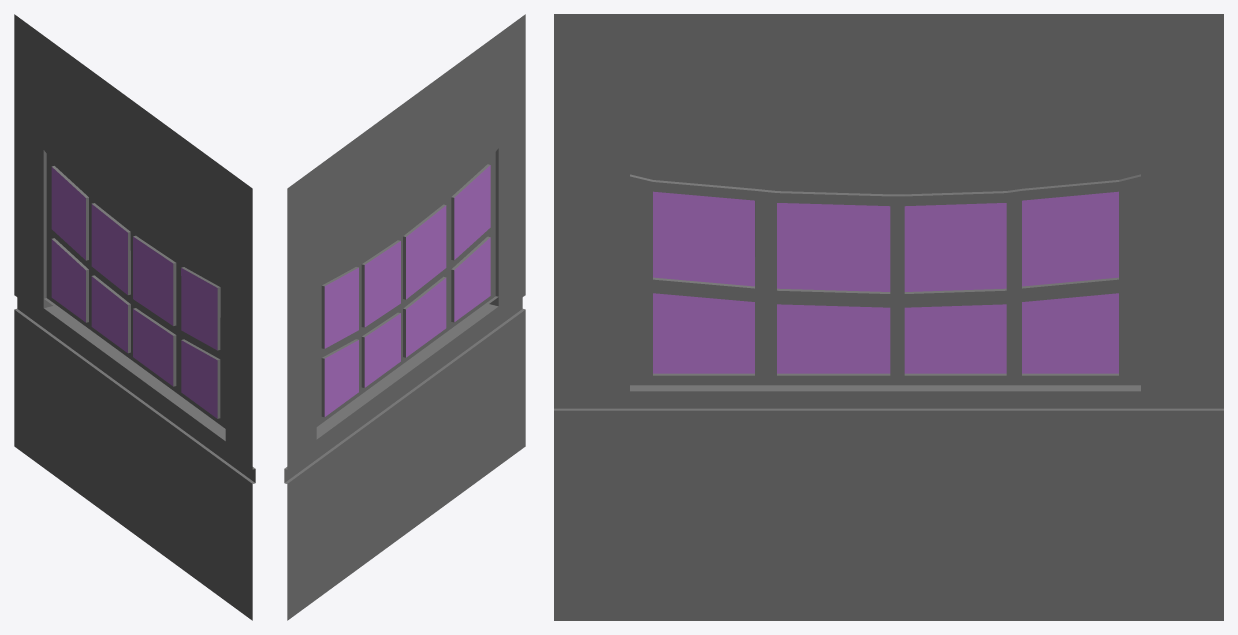
Rendered from SM_Wall_Fenetre_LP.fbx.
The picture shows the model from 3 angles, left to right: view 1: azimuth 30°, elevation 25°; view 2: azimuth 150°, elevation 25°; view 3: azimuth 270°, elevation 25°; orthographic projection. The views are drawn at different scales.
Visible parts, largest first — view 1: Box002; view 2: Box002; view 3: Box002.
Boxes of the visible parts, box(x1,y1,x2,y2) form: Box002: box(14, 14, 255, 620); Box002: box(284, 14, 525, 620); Box002: box(554, 14, 1223, 620).
Size of the model in its own units: 3.38 by 118 by 118.
